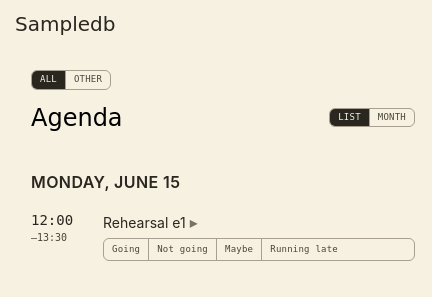
Test: +page — write-failure feedback (a rejected rsvp save) › a rejected write surfaces a per-row save-failed error AND reverts the optimistic value
Click the button with test id "rsvp-btn-going" at (127,249), box [104,238,149,260]
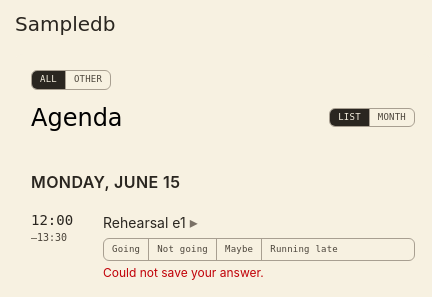
Expected: the text "Could not save your answer." is shown, [103,265,264,280]
